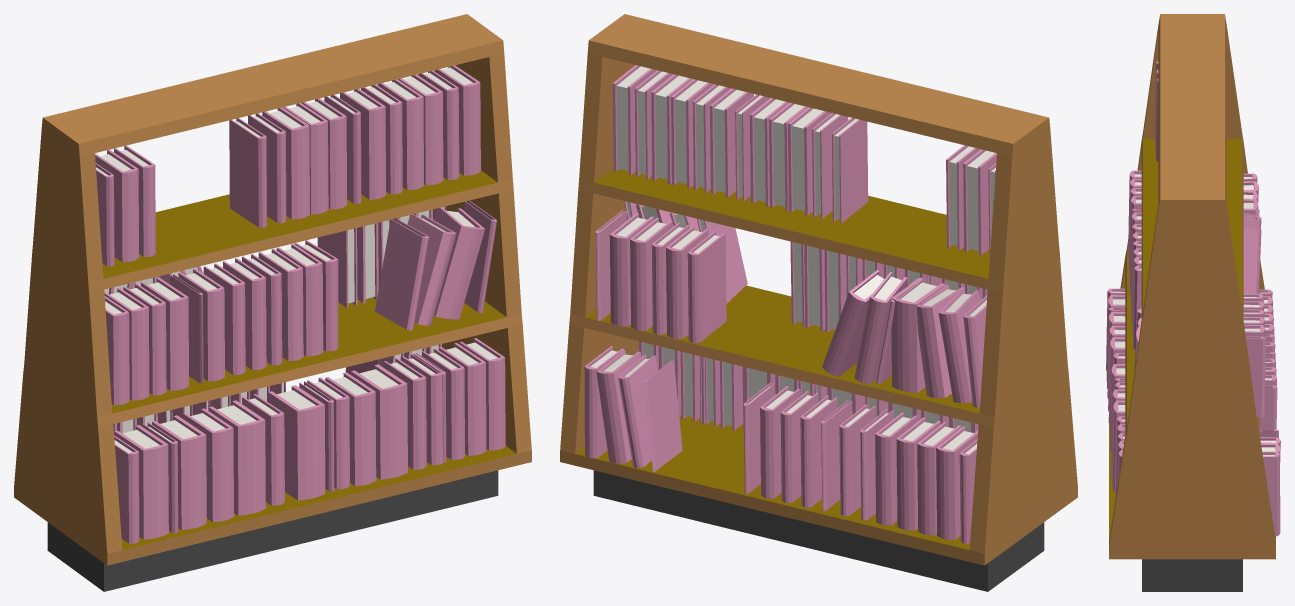
The model's file is bookshelf_3.fbx.
The picture shows the model from 3 angles, left to right: view 1: azimuth 30°, elevation 25°; view 2: azimuth 150°, elevation 25°; view 3: azimuth 270°, elevation 25°; orthographic projection. The views are drawn at different scales.
Visible parts, largest first — view 1: mesh_Bookshelf3, Book1.085, Book1.142, Book1.075, Book1.156, Book1.064, Book1.082, Book1.084, Book1.144, Book1.086, Book1.161, Book1.149 (+39 smaller); view 2: mesh_Bookshelf3, Book1.166, Book1.064, Book1.145, Book1.081, Book1.063, Book1.148, Book1.080, Book1.152, Book1.071, Book1.149, Book1.087 (+40 smaller); view 3: mesh_Bookshelf3, Book1.157, Book1.152, Book1.077, Book1.094, Book1.156, Book1.110, Book1.075, Book1.085, Book1.084, Book1.082, Book1.086 (+3 smaller).
Part boxes in pixels (x1,y1,x2,y2): mesh_Bookshelf3: [14, 14, 531, 591]; Book1.085: [268, 385, 325, 500]; Book1.142: [375, 219, 429, 330]; Book1.075: [209, 400, 265, 515]; Book1.156: [351, 364, 407, 479]; Book1.064: [229, 118, 267, 227]; Book1.082: [114, 425, 168, 539]; Book1.084: [152, 415, 206, 530]; Book1.144: [433, 207, 484, 319]; Book1.086: [183, 408, 233, 522]; Book1.161: [325, 372, 376, 486]; Book1.149: [95, 149, 139, 262]; mesh_Bookshelf3: [560, 14, 1077, 591]; Book1.166: [687, 231, 726, 343]; Book1.064: [832, 118, 868, 223]; Book1.145: [891, 277, 945, 392]; Book1.081: [644, 360, 682, 472]; Book1.063: [710, 88, 753, 197]; Book1.148: [916, 285, 965, 398]; Book1.080: [936, 426, 978, 539]; Book1.152: [822, 270, 884, 376]; Book1.071: [788, 107, 831, 215]; Book1.149: [963, 149, 996, 255]; Book1.087: [618, 354, 657, 467]; mesh_Bookshelf3: [1109, 14, 1275, 591]; Book1.157: [1246, 336, 1265, 417]; Book1.152: [1243, 227, 1261, 293]; Book1.077: [1262, 451, 1280, 536]; Book1.094: [1259, 385, 1277, 429]; Book1.156: [1112, 400, 1125, 492]; Book1.110: [1133, 265, 1141, 349]; Book1.075: [1108, 337, 1125, 426]; Book1.085: [1110, 364, 1125, 452]; Book1.084: [1107, 312, 1125, 398]; Book1.082: [1106, 295, 1125, 380]; Book1.086: [1108, 326, 1125, 411].
Bounding box in the file's own units: 200 × 200 × 79.53.
